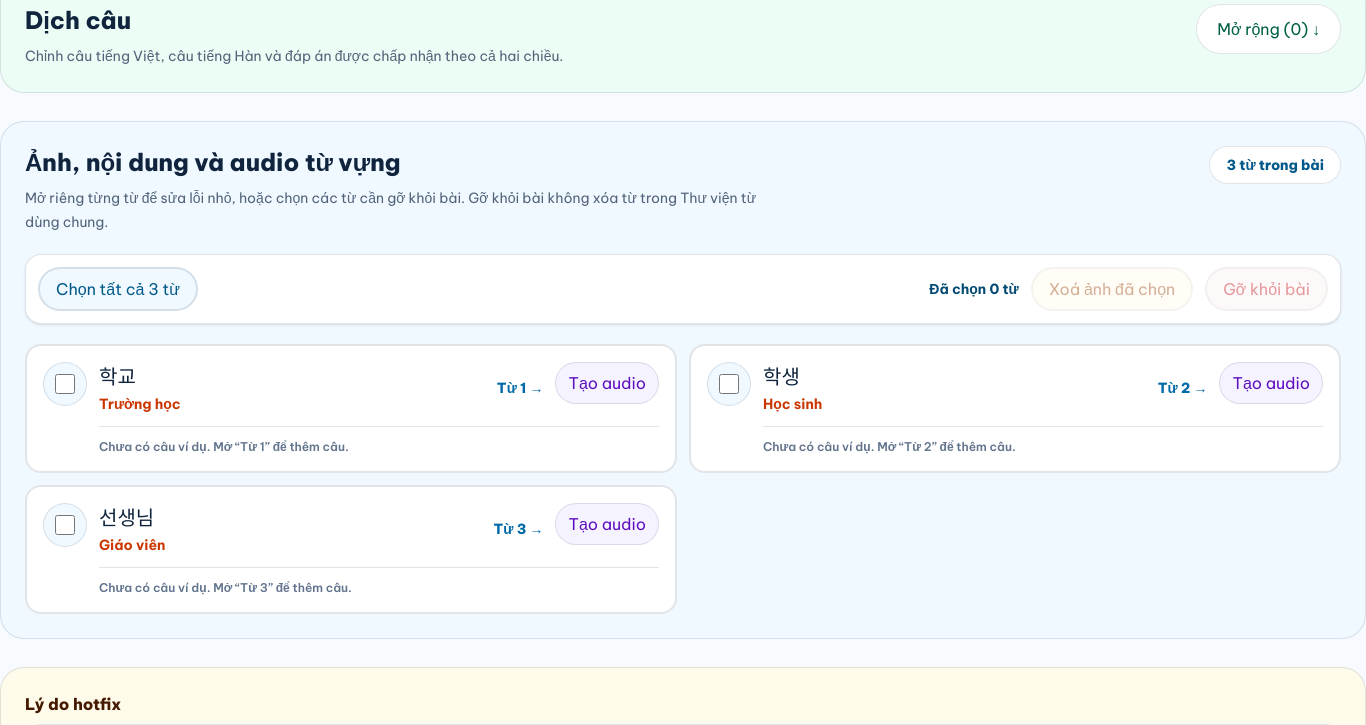
Test case: PublishedLessonHotfixForm vocabulary removal › cho xoá ảnh hàng loạt của các từ đã chọn mà không gỡ từ khỏi bài
(page scrolled)
Click the checkbox named "Chọn từ 학교" next to "학교": (65, 384) [55,374,75,394]
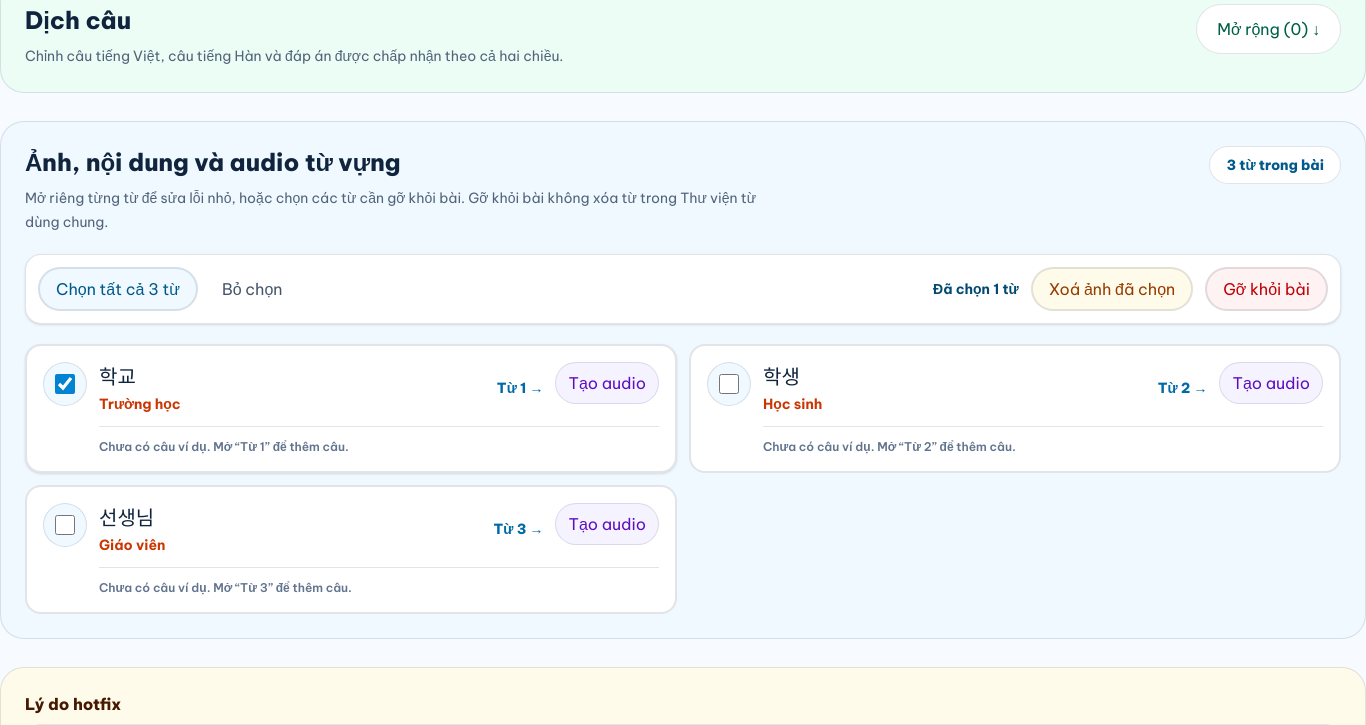
Click the button "Xoá ảnh đã chọn": (1112, 289) [1031,267,1193,311]
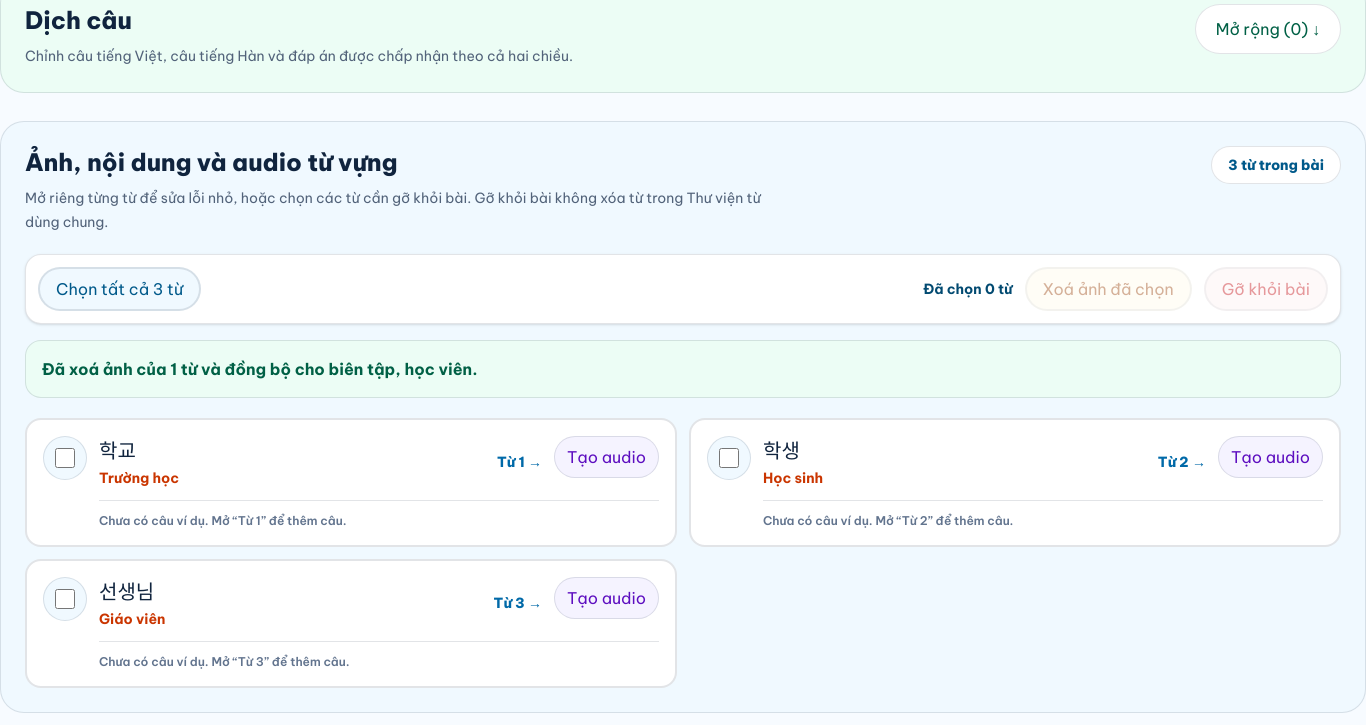
Expected: the number of checkboxes is 3, [55,448,75,468]; [719,448,739,468]; [55,589,75,609]
Expected: the text "Đã xoá ảnh của 1 từ và đồng bộ cho biên tập, học viên." is shown, [25,340,1341,398]
